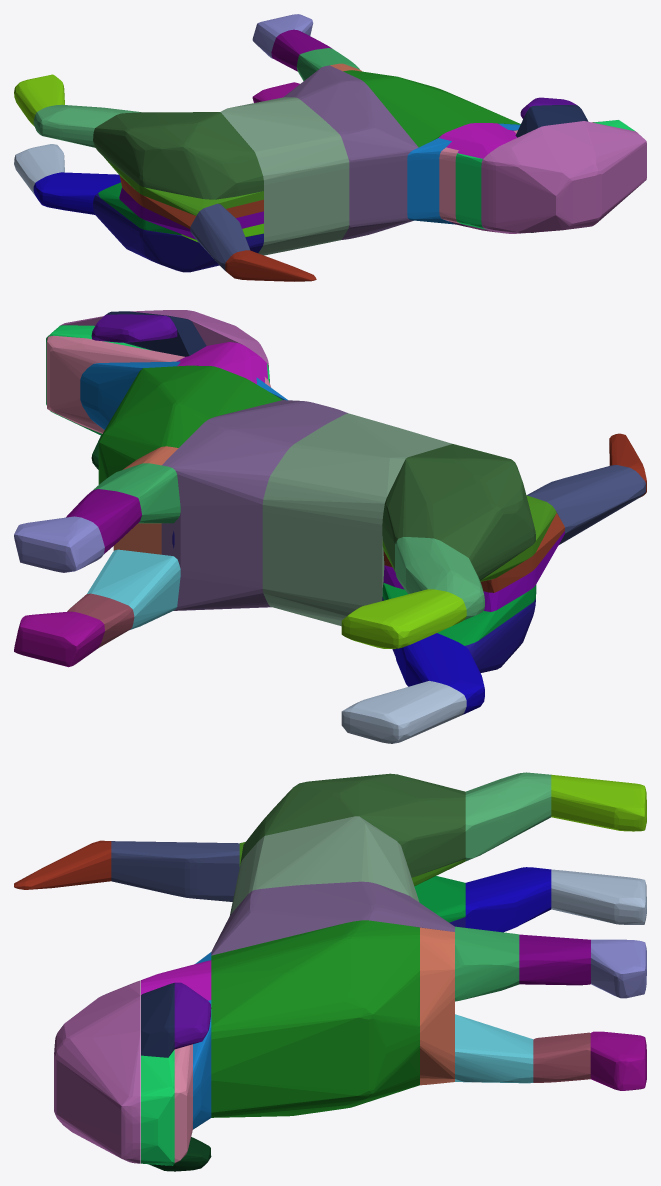
File: dog_coacd.obj
3 views of the same model, one above another, from view 1: azimuth 30°, elevation 25°; view 2: azimuth 150°, elevation 25°; view 3: azimuth 270°, elevation 25° (orthographic). The views are drawn at different scales.
Visible parts, largest first — view 1: geometry_7, geometry_0, geometry_19, geometry_1, geometry_8, geometry_20, geometry_29, geometry_5, geometry_3, geometry_16, geometry_23, geometry_15 (+13 smaller); view 2: geometry_0, geometry_1, geometry_19, geometry_8, geometry_6, geometry_4, geometry_24, geometry_2, geometry_16, geometry_3, geometry_12, geometry_5 (+17 smaller); view 3: geometry_8, geometry_7, geometry_19, geometry_0, geometry_1, geometry_16, geometry_9, geometry_3, geometry_5, geometry_4, geometry_2, geometry_6 (+14 smaller).
Boxes of the visible parts, bbox=[...] form: geometry_7: bbox=[481, 121, 646, 233]; geometry_0: bbox=[220, 97, 349, 255]; geometry_19: bbox=[93, 112, 263, 199]; geometry_1: bbox=[283, 65, 418, 239]; geometry_8: bbox=[343, 70, 520, 147]; geometry_20: bbox=[93, 193, 263, 272]; geometry_29: bbox=[407, 123, 520, 224]; geometry_5: bbox=[33, 172, 120, 214]; geometry_3: bbox=[33, 104, 140, 147]; geometry_16: bbox=[190, 203, 250, 271]; geometry_23: bbox=[455, 120, 635, 229]; geometry_15: bbox=[225, 250, 316, 281]; geometry_0: bbox=[262, 413, 452, 626]; geometry_1: bbox=[161, 400, 347, 610]; geometry_19: bbox=[382, 444, 535, 580]; geometry_8: bbox=[98, 365, 282, 484]; geometry_6: bbox=[341, 681, 466, 743]; geometry_4: bbox=[341, 589, 466, 648]; geometry_24: bbox=[46, 335, 270, 433]; geometry_2: bbox=[87, 549, 180, 629]; geometry_16: bbox=[527, 465, 645, 545]; geometry_3: bbox=[395, 537, 484, 619]; geometry_12: bbox=[14, 516, 104, 572]; geometry_5: bbox=[395, 633, 484, 714]; geometry_8: bbox=[211, 920, 419, 1117]; geometry_7: bbox=[54, 980, 140, 1163]; geometry_19: bbox=[240, 773, 465, 877]; geometry_0: bbox=[230, 816, 419, 915]; geometry_1: bbox=[211, 881, 454, 955]; geometry_16: bbox=[111, 841, 239, 901]; geometry_9: bbox=[420, 927, 454, 1085]; geometry_3: bbox=[465, 772, 551, 861]; geometry_5: bbox=[465, 867, 551, 932]; geometry_4: bbox=[551, 774, 646, 831]; geometry_2: bbox=[455, 1014, 533, 1083]; geometry_6: bbox=[551, 869, 646, 924].
Size of the model in its own units: 98.69 by 28.22 by 86.63.
